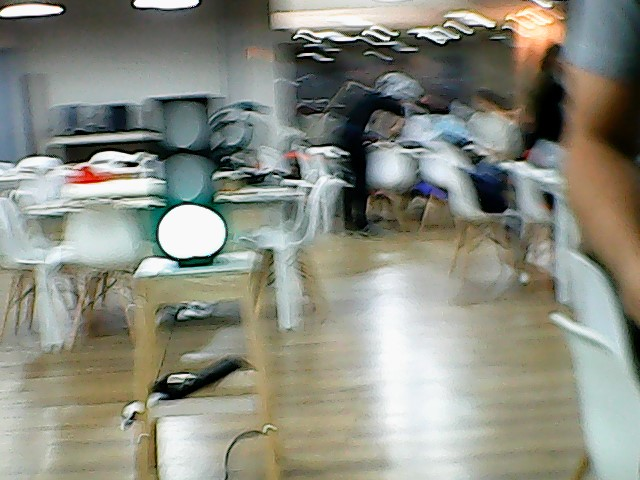verde: (130, 82, 237, 269)
